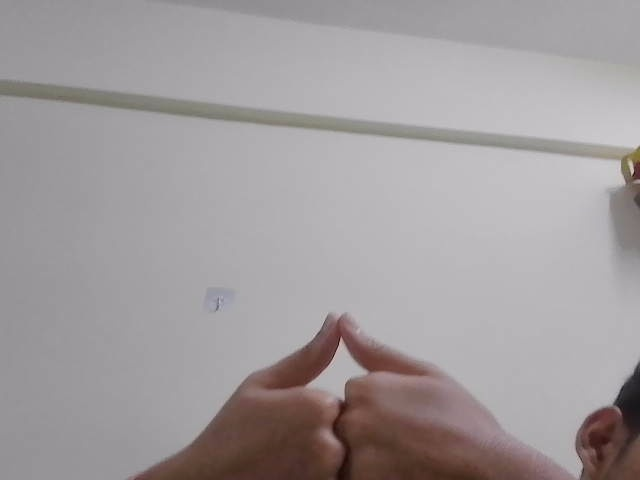A: (120, 268, 543, 476)
